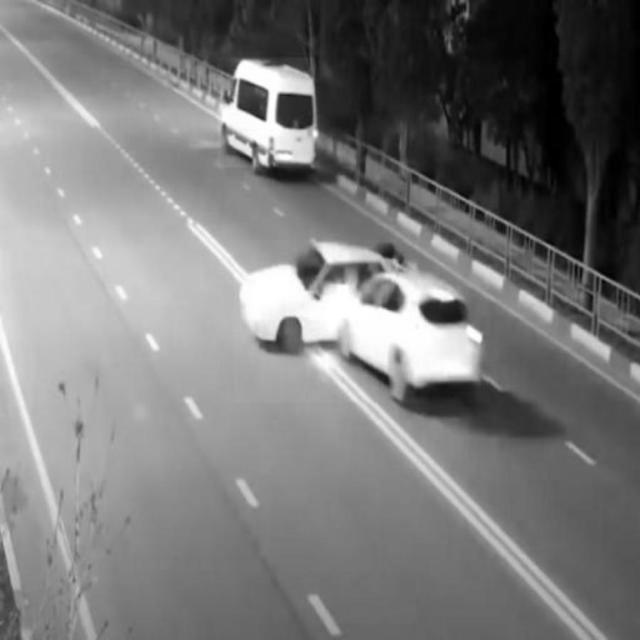accident: (235, 241, 489, 403)
vehicle: (217, 58, 315, 168)
